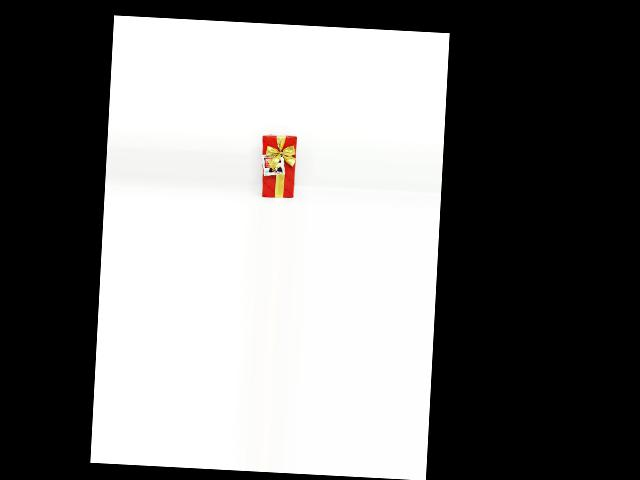chocolate: (259, 132, 300, 198)
